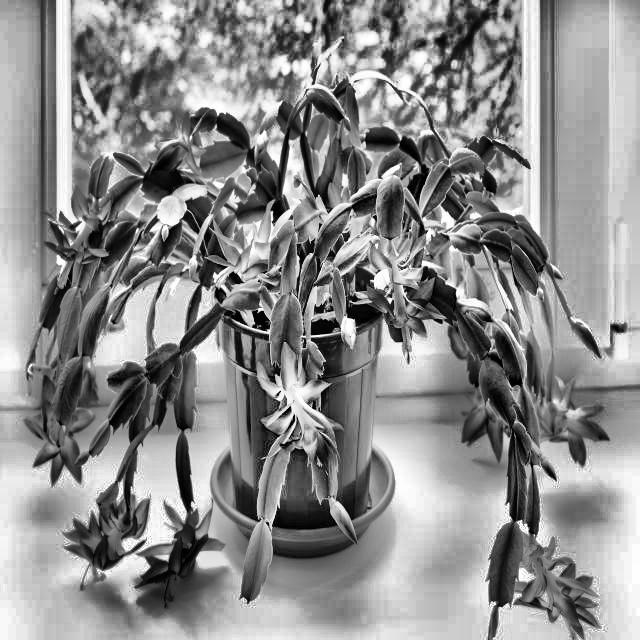plants: (44, 116, 577, 580)
